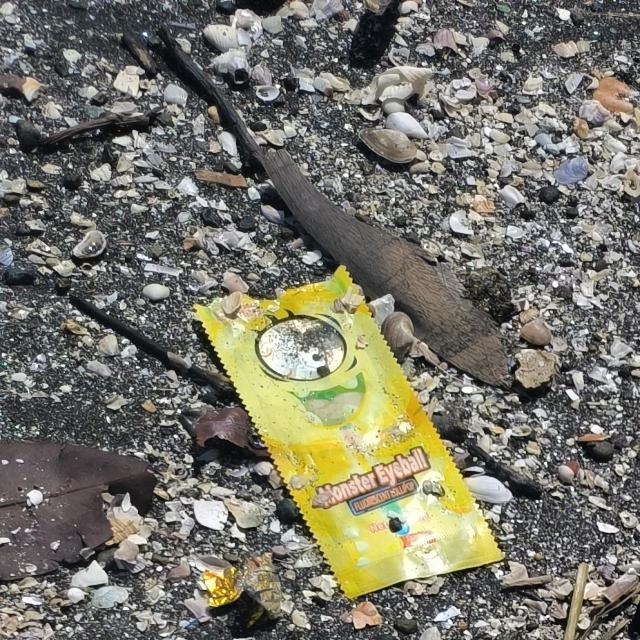plastic_waste: (192, 262, 510, 603)
wood_waste: (251, 148, 519, 392)
